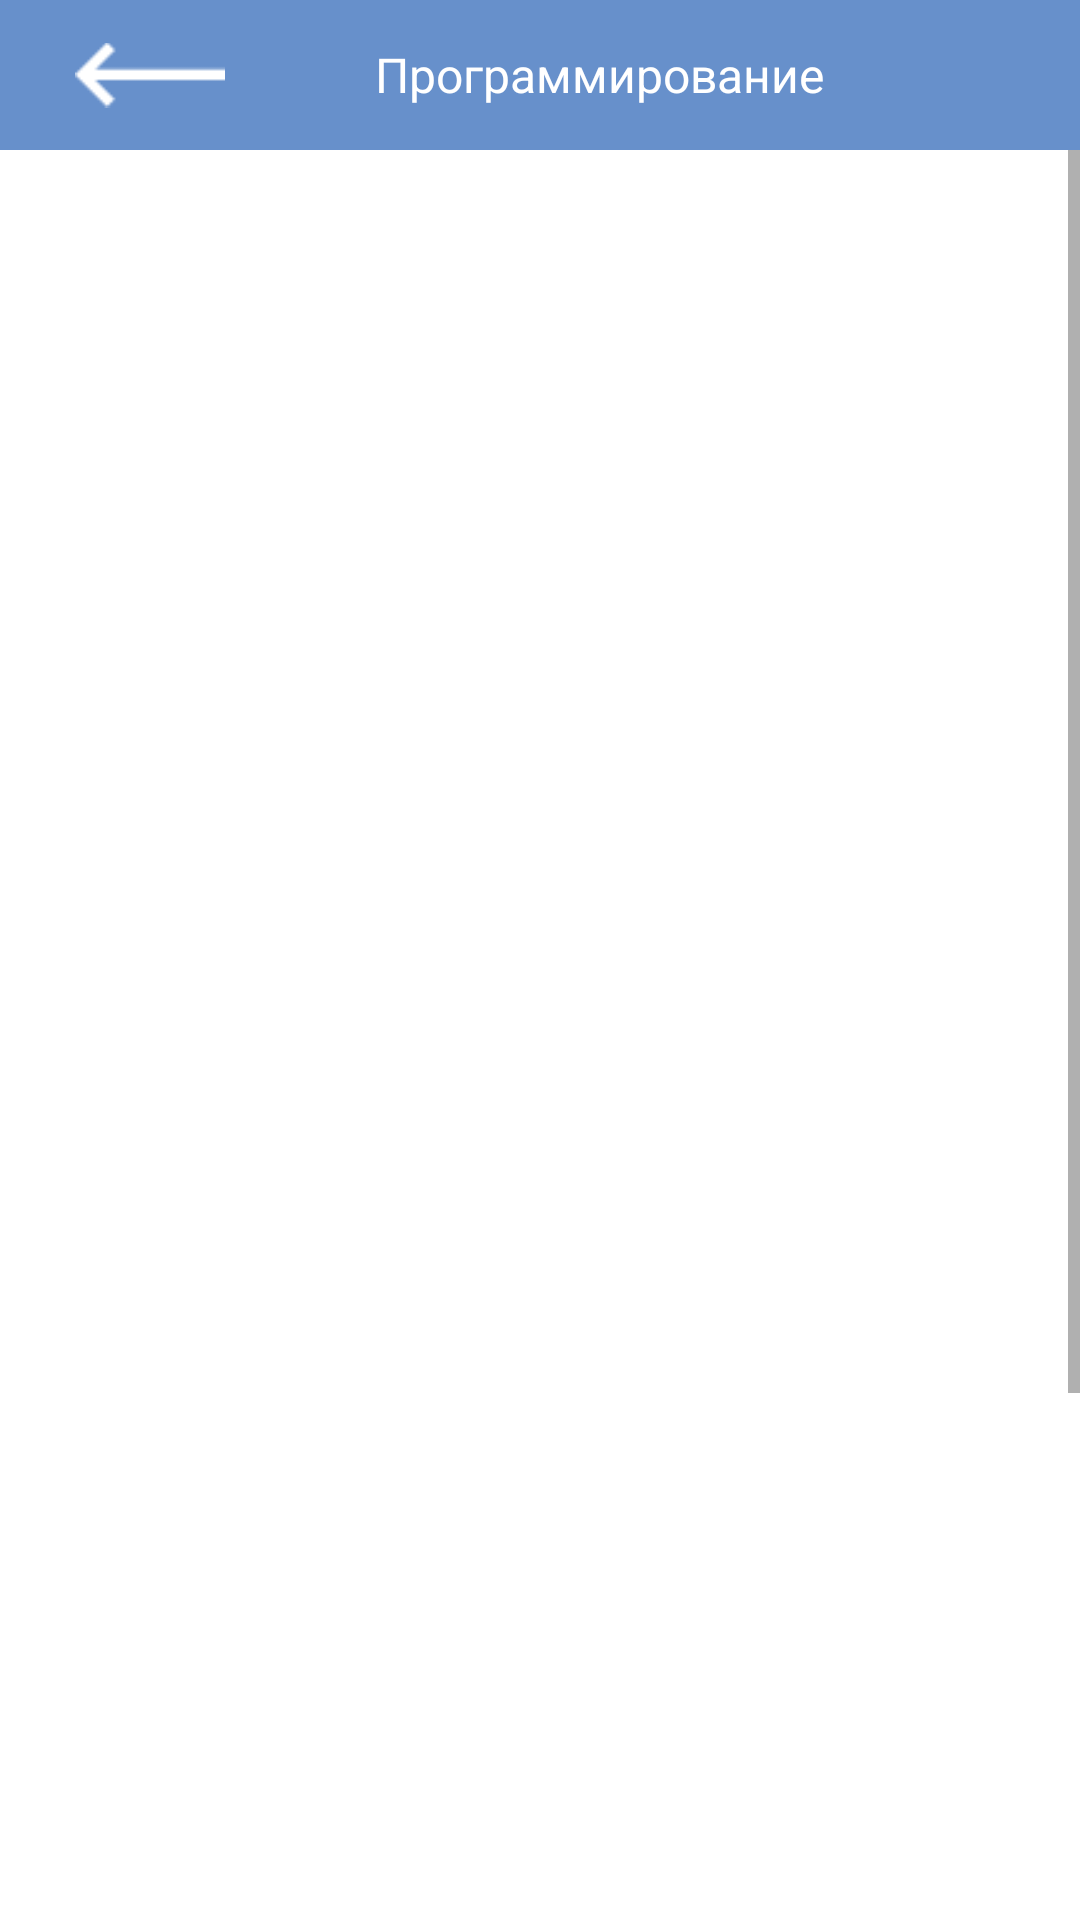

Screen size 1080*1920. Icon name, then its box in pixels as bbox(x1, y1, x2, y2):
arrow left: bbox(75, 43, 225, 108)
